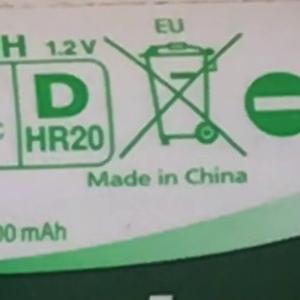HR20: (19, 133, 112, 160)
